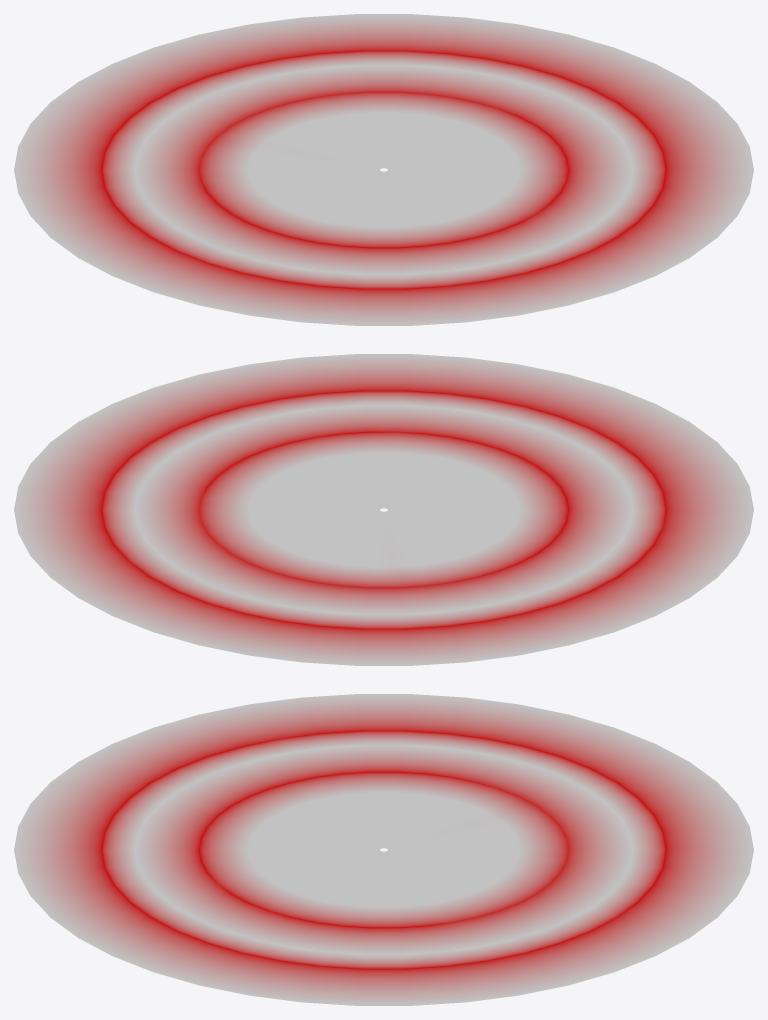
Rendered from SM_KenzuAimUltimateUVDisk.fbx.
3 renders of one model, top to bottom at view 1: azimuth 30°, elevation 25°; view 2: azimuth 150°, elevation 25°; view 3: azimuth 270°, elevation 25°, orthographic.
Parts seen in each view (by area): view 1: KenzuAimUltimateUVDisk; view 2: KenzuAimUltimateUVDisk; view 3: KenzuAimUltimateUVDisk.
Part boxes in pixels (x1=…): KenzuAimUltimateUVDisk: x1=14, y1=14, x2=753, y2=325; KenzuAimUltimateUVDisk: x1=14, y1=354, x2=753, y2=665; KenzuAimUltimateUVDisk: x1=14, y1=694, x2=753, y2=1005.
Size of the model in its own units: 3.99 by 6.04e-07 by 4.
